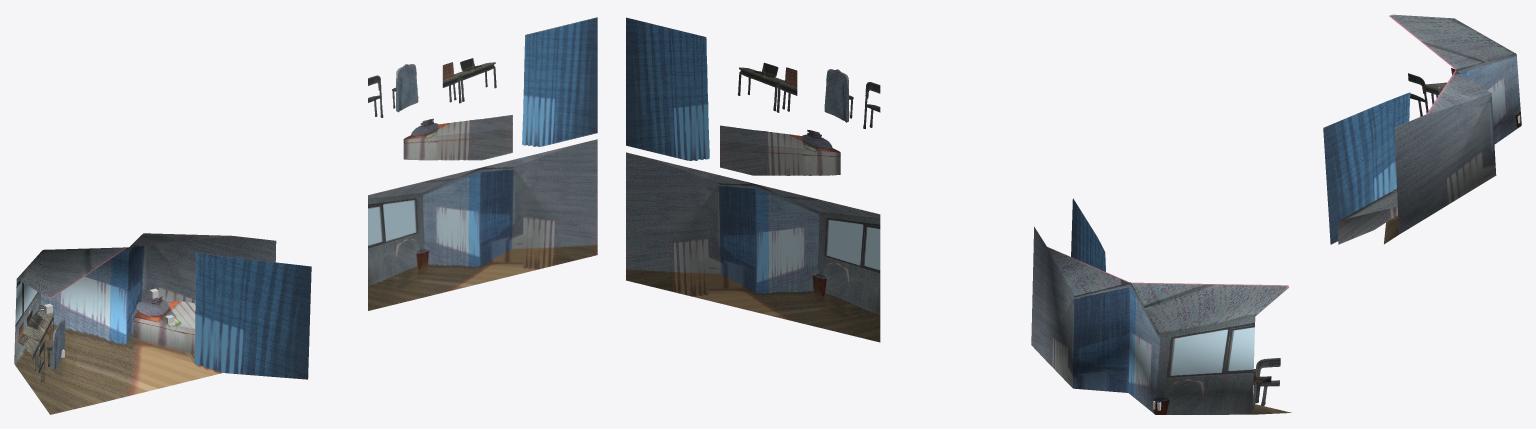
File: bg_infirmary.FBX
3 views of the same model, side by side, from view 1: azimuth 30°, elevation 25°; view 2: azimuth 150°, elevation 25°; view 3: azimuth 270°, elevation 25° (orthographic). The views are drawn at different scales.
Visible parts, largest first — view 1: bg, map sample; view 2: map sample, bg; view 3: bg.
Boxes of the visible parts, box(x1,y1,x2,y2) form: bg: box(14, 233, 311, 414); map sample: box(368, 17, 597, 310); map sample: box(626, 17, 880, 342); bg: box(1031, 198, 1291, 414); bg: box(1323, 14, 1521, 244).
Size of the model in its own units: 250 by 101 by 74.05.
1 material, 1 textured.
